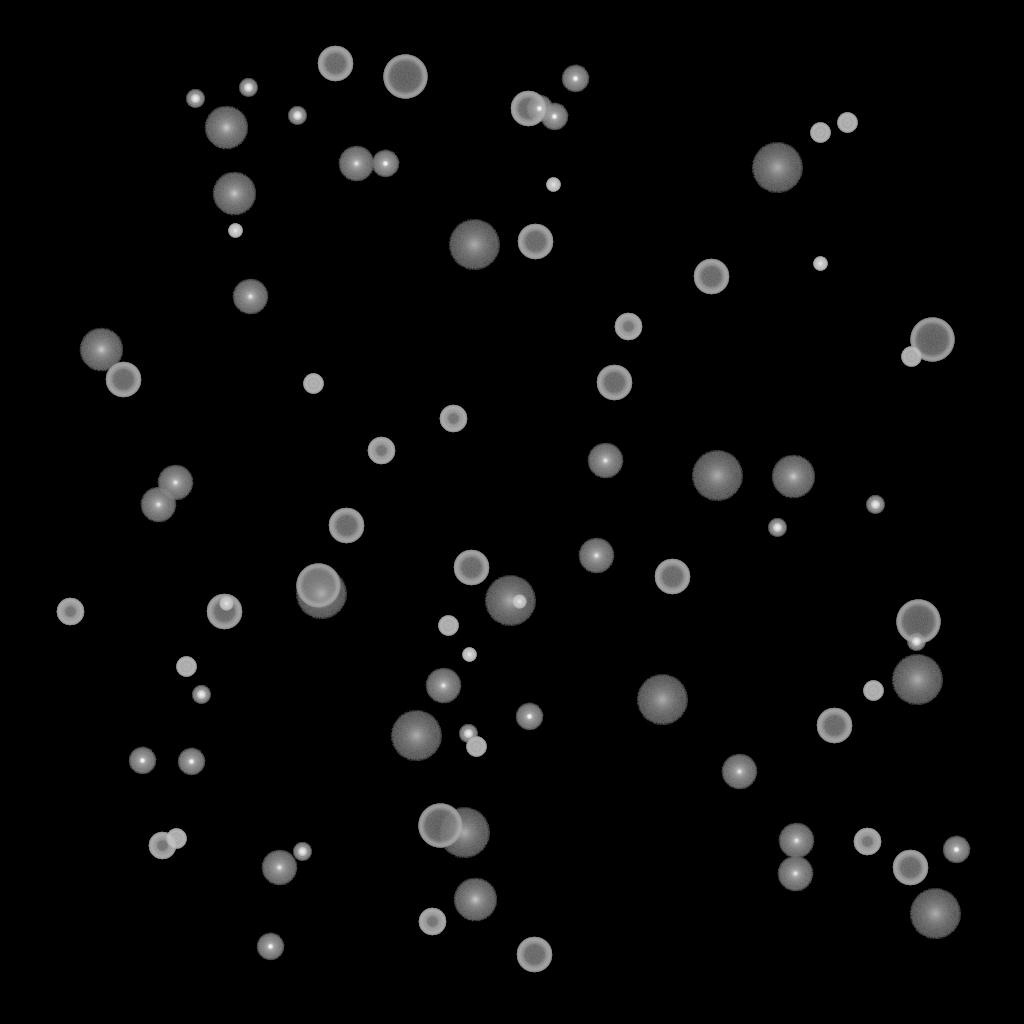depth:-10: (942, 836, 970, 864), (128, 747, 156, 775), (561, 65, 589, 93), (540, 103, 568, 131), (515, 703, 543, 731), (525, 95, 553, 123), (371, 150, 399, 178), (256, 933, 284, 961), (177, 748, 205, 776)
depth:-20: (768, 519, 786, 537), (186, 90, 204, 108), (239, 79, 257, 97), (192, 686, 210, 704), (907, 633, 925, 651), (293, 843, 311, 861), (866, 496, 884, 514), (288, 107, 306, 125), (459, 725, 477, 743)
depth:-30: (228, 224, 242, 238), (546, 178, 560, 192), (813, 257, 827, 271), (219, 597, 233, 611), (512, 595, 526, 609), (462, 648, 476, 662)
depth:-40: (303, 374, 323, 394), (810, 123, 830, 143), (176, 657, 196, 677), (166, 829, 186, 849), (466, 737, 486, 757), (438, 616, 458, 636), (837, 113, 857, 133), (901, 347, 921, 367), (863, 681, 883, 701)
depth:-50: (148, 832, 176, 860), (614, 313, 642, 341), (853, 828, 881, 856), (439, 405, 467, 433), (418, 908, 446, 936), (56, 598, 84, 626), (367, 437, 395, 465)
depth:-60: (206, 594, 242, 630), (816, 708, 852, 744), (510, 91, 546, 127), (654, 559, 690, 595), (596, 365, 632, 401), (693, 259, 729, 295), (517, 224, 553, 260), (105, 362, 141, 398), (516, 937, 552, 973), (892, 850, 928, 886), (317, 46, 353, 82), (328, 508, 364, 544), (453, 550, 489, 586)
depth:-70: (296, 564, 340, 608), (418, 804, 462, 848), (910, 318, 954, 362), (383, 55, 427, 99), (896, 600, 940, 644)
depth:0: (338, 146, 374, 182), (721, 754, 757, 790), (157, 465, 193, 501), (232, 279, 268, 315), (777, 856, 813, 892), (261, 850, 297, 886), (778, 823, 814, 859), (578, 538, 614, 574), (425, 668, 461, 704), (140, 487, 176, 523), (587, 443, 623, 479)
depth:10: (204, 106, 248, 150), (79, 328, 123, 372), (212, 172, 256, 216), (453, 878, 497, 922), (771, 455, 815, 499)
depth:20: (295, 569, 347, 619), (636, 675, 688, 725), (484, 576, 536, 626), (909, 889, 961, 939), (751, 143, 803, 193), (891, 655, 943, 705), (390, 711, 442, 761), (438, 808, 490, 858), (691, 451, 743, 501), (448, 220, 500, 270)
